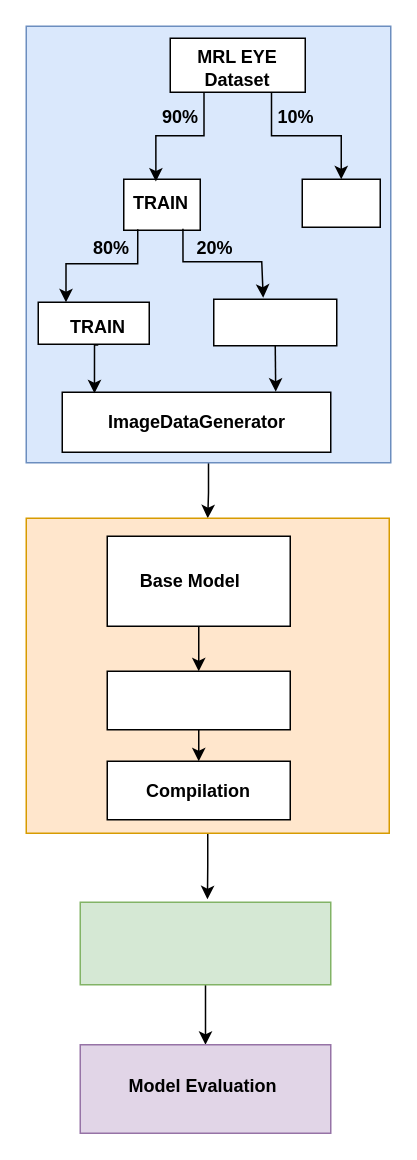
This 417x1160 diagram has some shape labels left out. Here are the shapes that lost their labels. From the top down, the box of each, then its label:
(301, 178, 380, 227): TEST
(212, 298, 337, 346): VALIDATION
(106, 670, 290, 730): Custom Layers
(79, 901, 331, 985): Model Training
